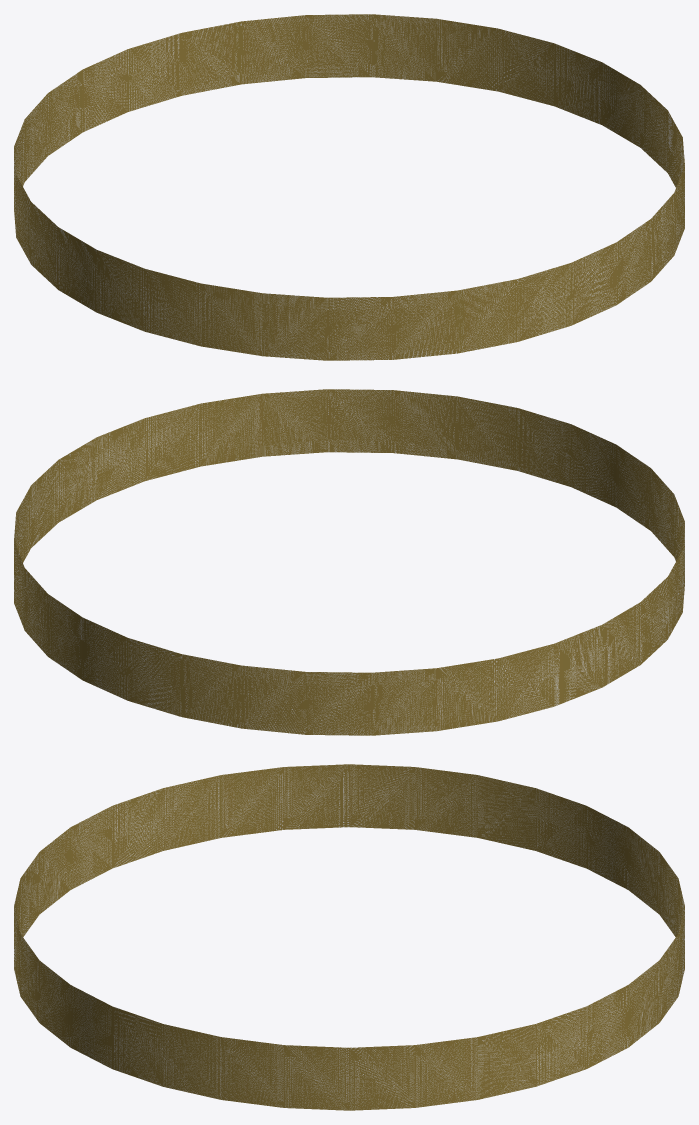
The model's file is original-40.obj.
The picture shows the model from 3 angles, top to bottom: view 1: azimuth 30°, elevation 25°; view 2: azimuth 150°, elevation 25°; view 3: azimuth 270°, elevation 25°; orthographic projection.
Visible parts, largest first — view 1: mesh37/mesh37-geometry#mesh37-geometry; view 2: mesh37/mesh37-geometry#mesh37-geometry; view 3: mesh37/mesh37-geometry#mesh37-geometry.
Part boxes in pixels (left/top/right/bottom): mesh37/mesh37-geometry#mesh37-geometry: left=14, top=14, right=684, bottom=360; mesh37/mesh37-geometry#mesh37-geometry: left=14, top=389, right=684, bottom=735; mesh37/mesh37-geometry#mesh37-geometry: left=14, top=764, right=684, bottom=1110.
Bounding box in the file's own units: 0.1418 × 0.0147 × 0.1418.
